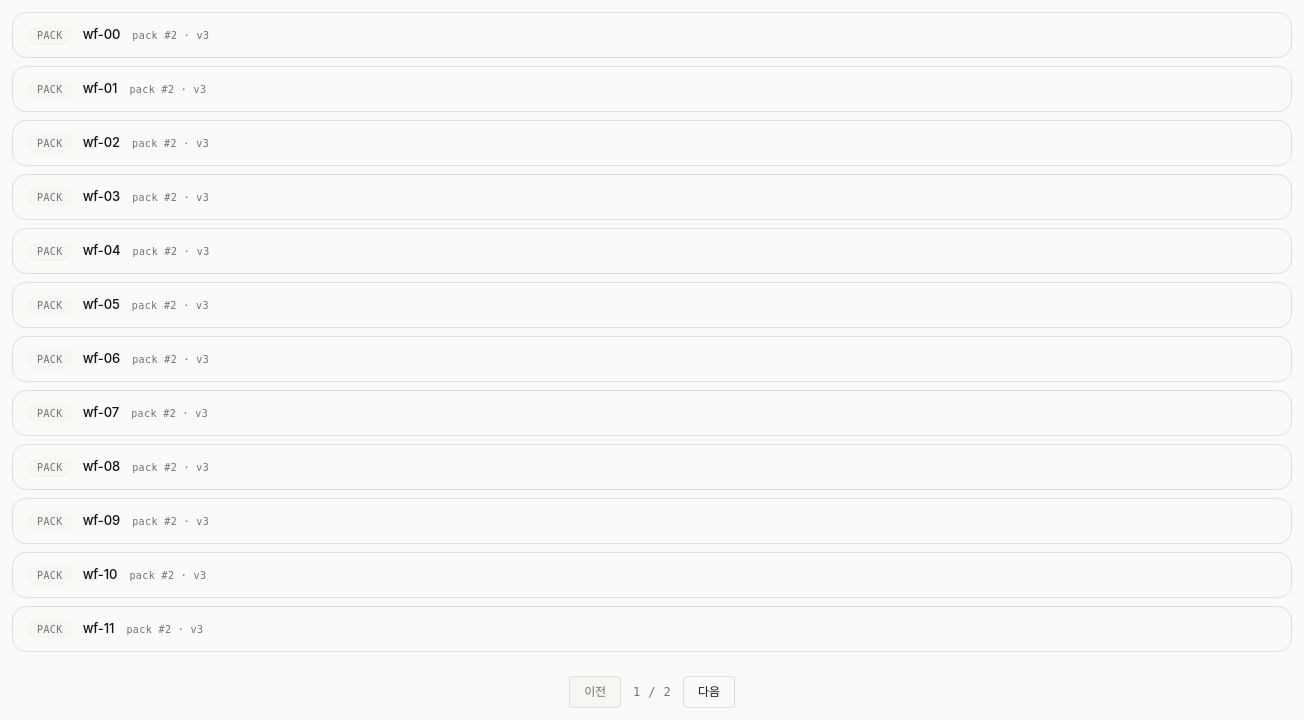
Test: WorkflowListView › Next 버튼 클릭 시 다음 페이지로 이동
The image size is (1304, 720).
(page scrolled)
Click the button with test id "wl-pagination-next".
click(709, 692)  # box [683,676,735,708]
(page scrolled)
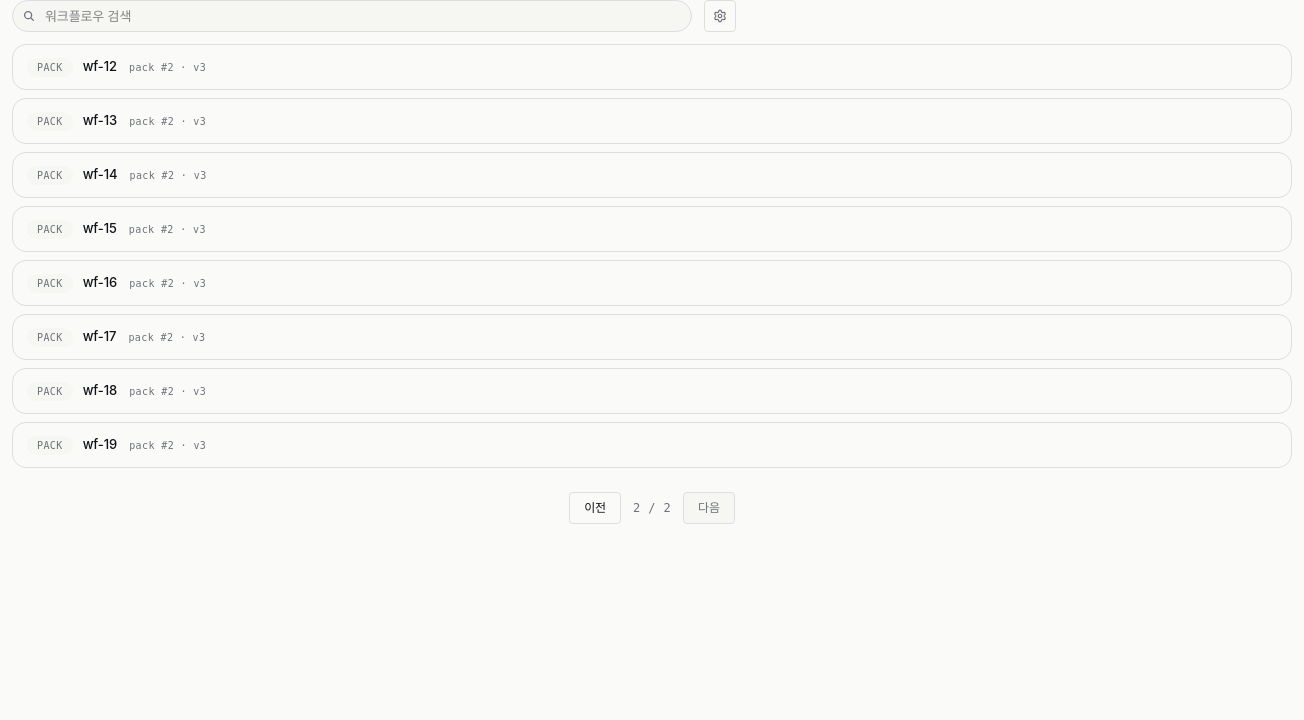
Now the text with test id "wl-pagination-info" reads "2 / 2", box [633,499,671,517]
Now the element with test id "wl-card-13" is shown, box [12,44,1292,90]
